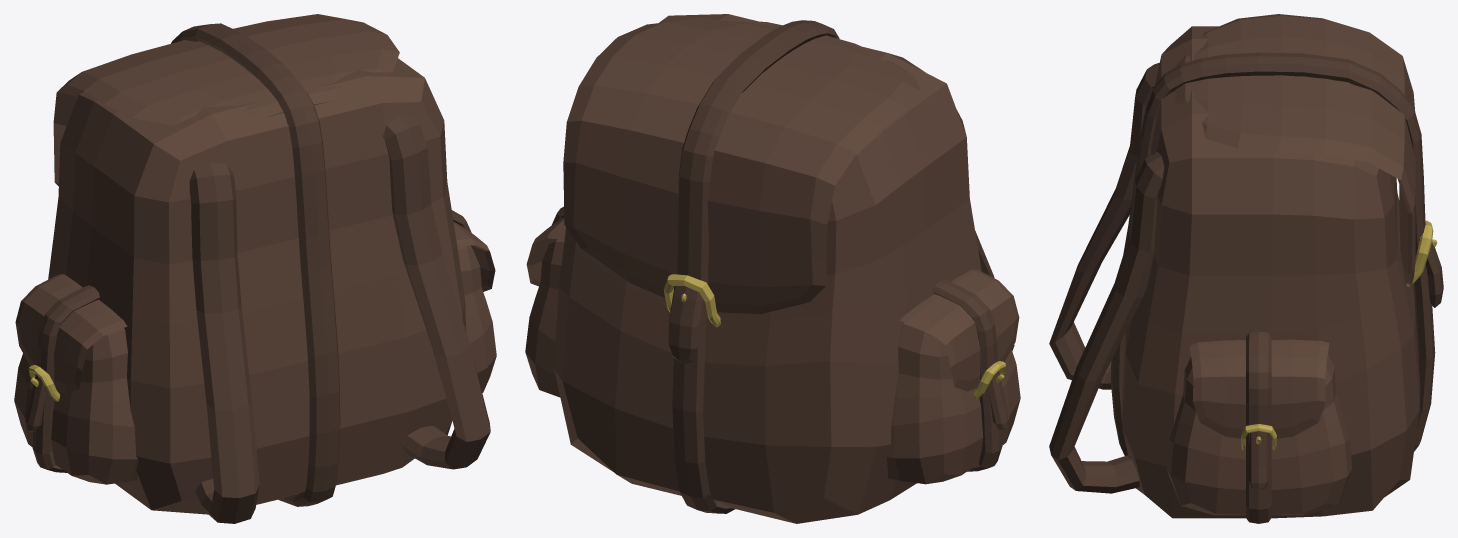
File: B02_Backpack.glb
3 renders of one model, left to right at view 1: azimuth 30°, elevation 25°; view 2: azimuth 150°, elevation 25°; view 3: azimuth 270°, elevation 25°, orthographic. The views are drawn at different scales.
Visible parts, largest first — view 1: Backpack; view 2: Backpack; view 3: Backpack.
Boxes of the visible parts, box(x1,y1,x2,y2) form: Backpack: box(14, 14, 496, 523); Backpack: box(525, 14, 1020, 523); Backpack: box(1049, 14, 1443, 523).
Bounding box in the file's own units: 1.07 × 0.9506 × 0.8037.
